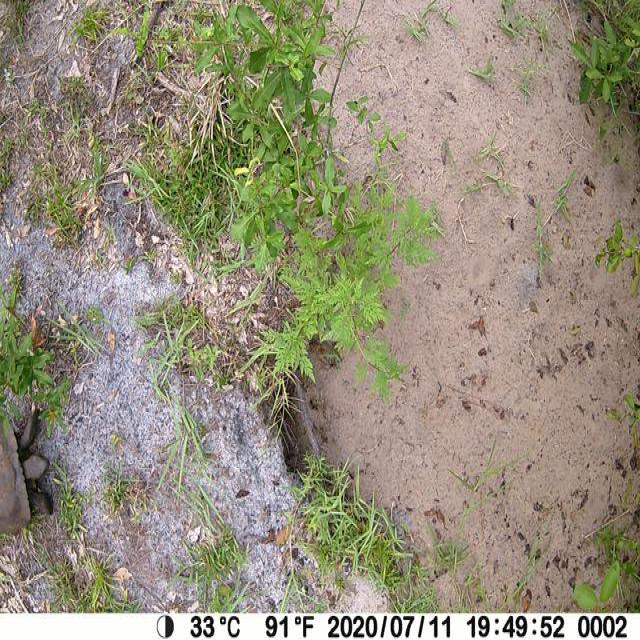tortoise: (0, 405, 55, 539)
